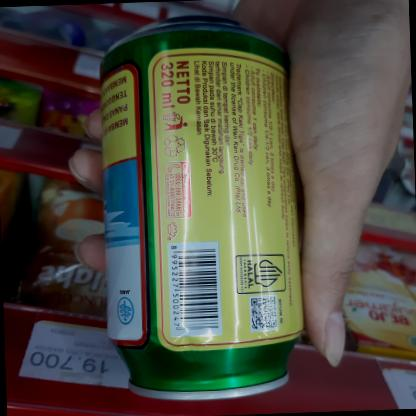alumunium_can: (71, 0, 312, 414)
